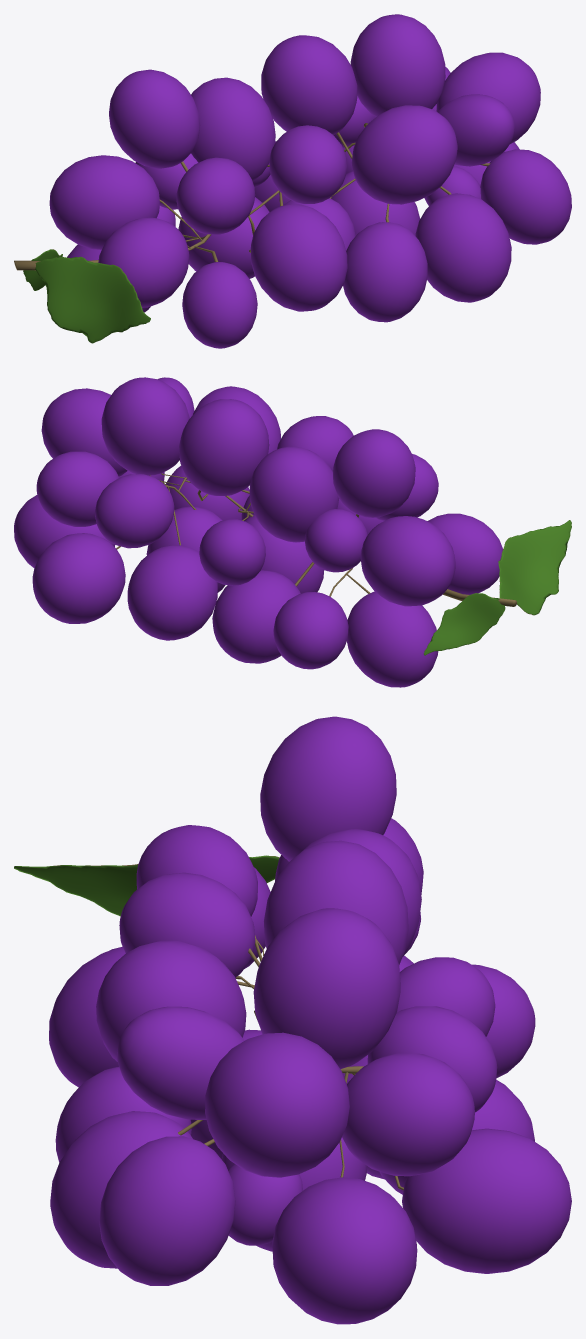
Rendered from grapes.fbx.
3 renders of one model, top to bottom at view 1: azimuth 30°, elevation 25°; view 2: azimuth 150°, elevation 25°; view 3: azimuth 270°, elevation 25°, orthographic. The views are drawn at different scales.
Parts seen in each view (by area): view 1: grapes, Plane, vine; view 2: grapes, Plane, vine; view 3: grapes, Plane, vine.
Boxes of the visible parts, left/top/right/bottom form: grapes: left=49, top=14, right=571, bottom=348; Plane: left=23, top=249, right=150, bottom=343; vine: left=14, top=123, right=490, bottom=270; grapes: left=14, top=377, right=502, bottom=687; Plane: left=423, top=520, right=571, bottom=655; vine: left=116, top=473, right=516, bottom=606; grapes: left=49, top=716, right=571, bottom=1324; Plane: left=14, top=855, right=279, bottom=916; vine: left=178, top=935, right=403, bottom=1190.
Size of the model in its own units: 1252 by 578 by 765.
